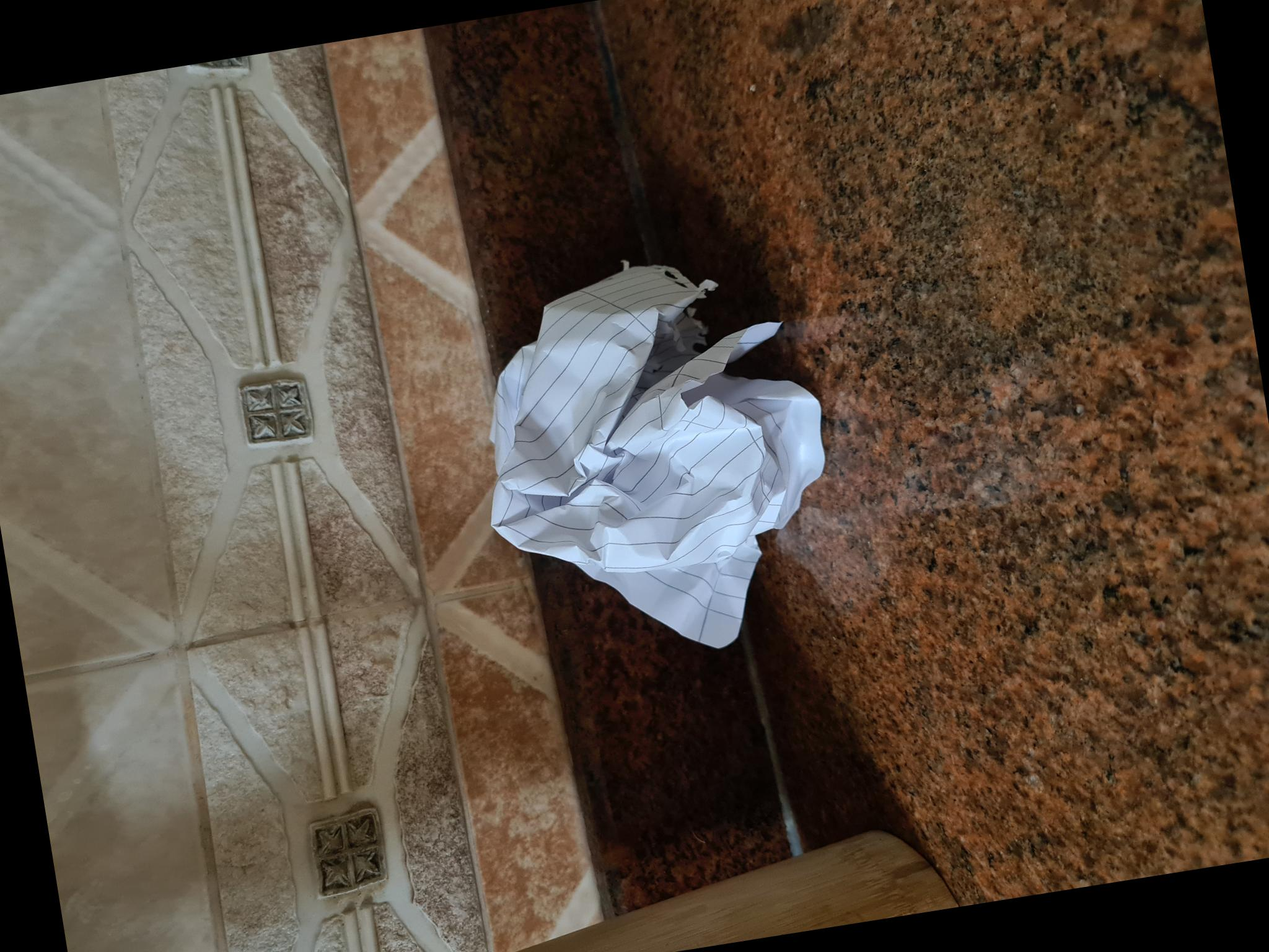Kertas: (332, 513, 715, 848)
